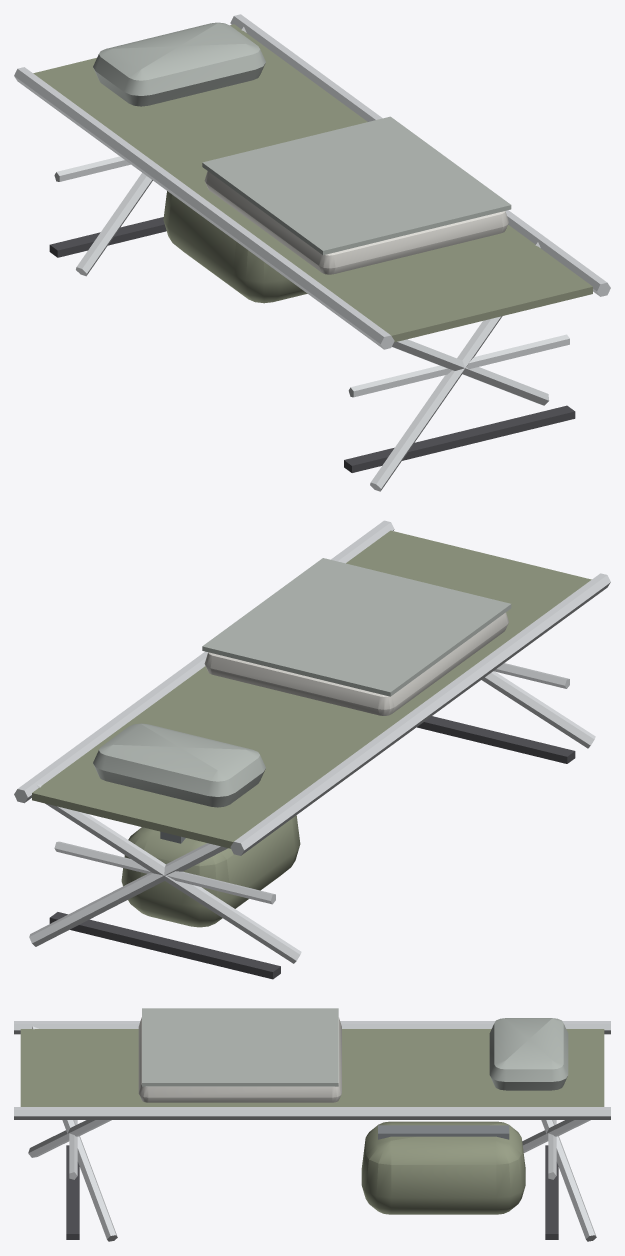
The model's file is cold-war-missile-silo-and-command-bunker-folding-cot-14cc0a5f__15712.glb.
3 renders of one model, top to bottom at view 1: azimuth 30°, elevation 25°; view 2: azimuth 150°, elevation 25°; view 3: azimuth 270°, elevation 25°, orthographic. The views are drawn at different scales.
Visible parts, largest first — view 1: folding-cot; view 2: folding-cot; view 3: folding-cot.
Part boxes in pixels (x1,y1,x2,y2): folding-cot: [14, 14, 610, 491]; folding-cot: [14, 520, 610, 979]; folding-cot: [14, 1008, 610, 1241].
Size of the model in its own units: 0.6599 by 0.5381 by 1.82.
